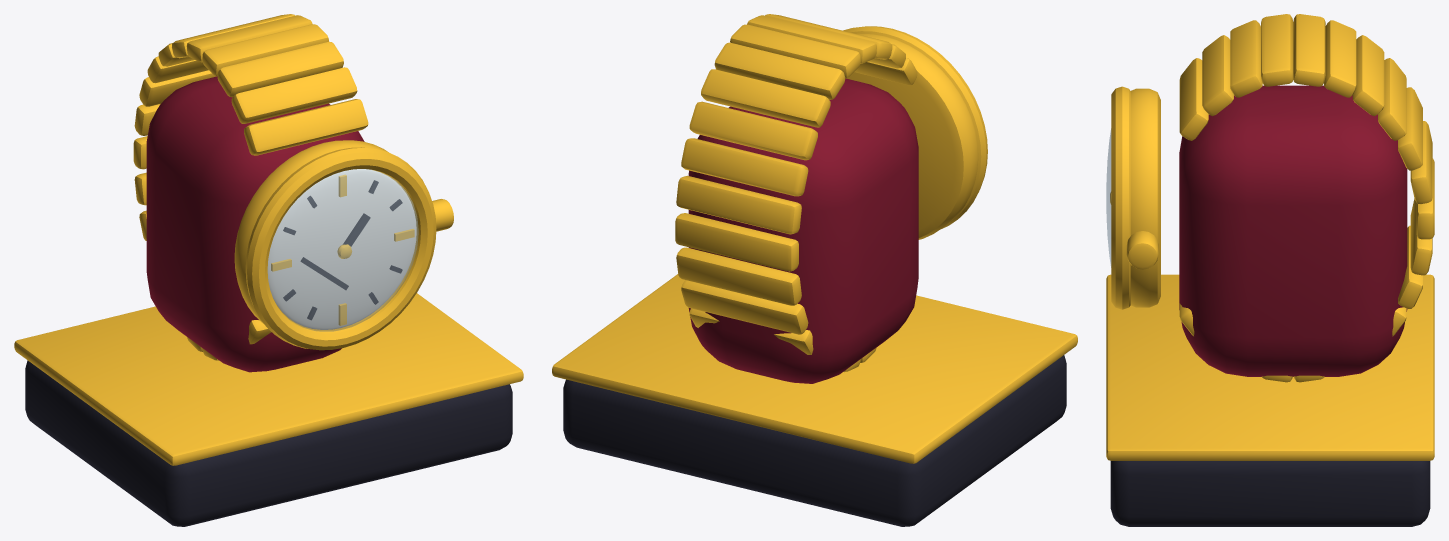
The model's file is GoldWatch.fbx.
3 renders of one model, left to right at view 1: azimuth 30°, elevation 25°; view 2: azimuth 150°, elevation 25°; view 3: azimuth 270°, elevation 25°, orthographic. The views are drawn at different scales.
Visible parts, largest first — view 1: Gold, Marble, Velvet, Crystal, Face, Dark; view 2: Gold, Velvet, Marble; view 3: Gold, Velvet, Marble, Crystal.
Boxes of the visible parts, box(x1,y1,x2,y2) form: Gold: box(14, 14, 523, 465); Marble: box(25, 360, 512, 526); Velvet: box(146, 76, 364, 372); Crystal: box(268, 169, 418, 331); Face: box(267, 169, 416, 329); Dark: box(283, 180, 402, 320); Gold: box(552, 14, 1077, 463); Velvet: box(688, 78, 918, 383); Marble: box(563, 355, 1066, 526); Gold: box(1106, 14, 1434, 460); Velvet: box(1179, 85, 1407, 376); Marble: box(1110, 461, 1430, 526); Crystal: box(1106, 129, 1111, 267).
Bounding box in the file's own units: 92 × 98.06 × 72.
